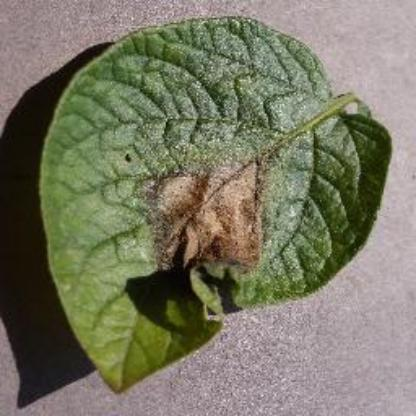Late-Blight: (30, 8, 408, 396)
